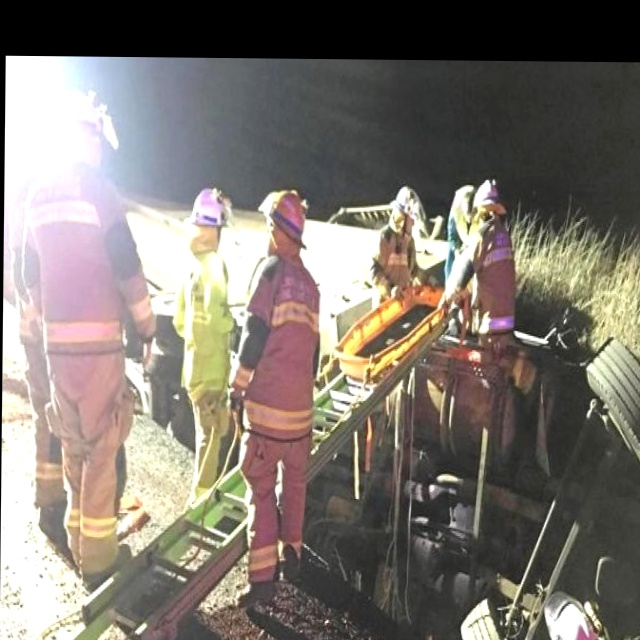Con_Casco: (186, 188, 232, 244)
Con_Chaleco: (248, 259, 320, 438), (180, 254, 233, 389)
